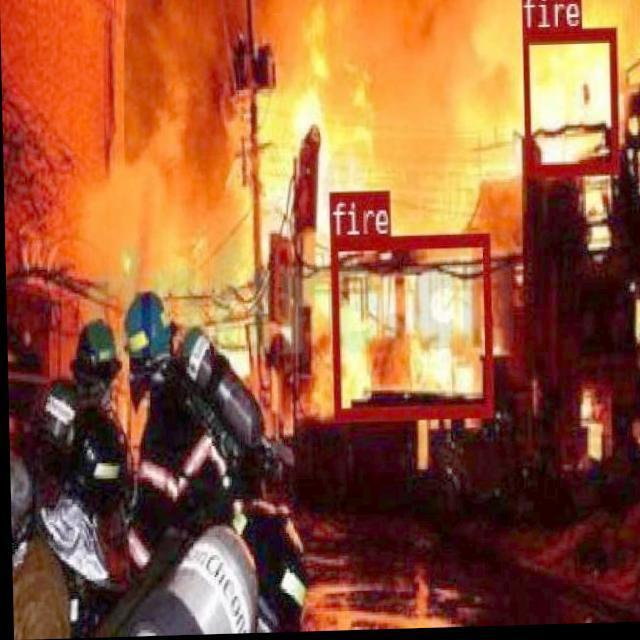Fire: (324, 230, 518, 451), (482, 0, 632, 172), (266, 12, 376, 208)
Smoke: (85, 0, 536, 235)
